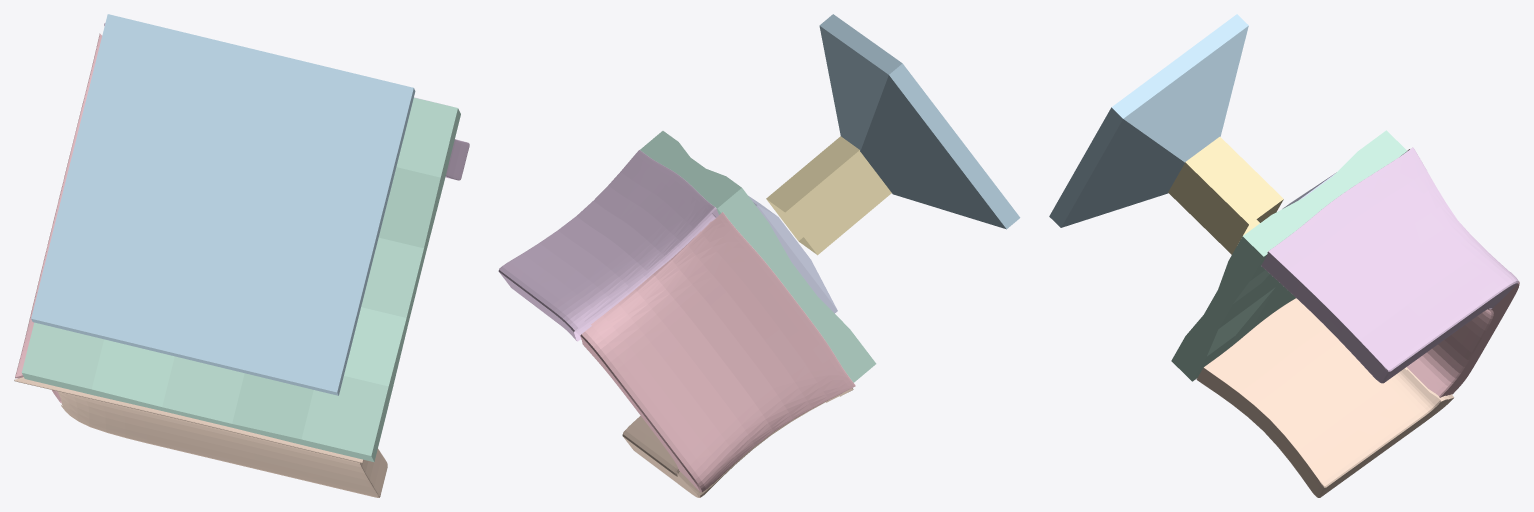
The model's file is view_assembly_9_colored.glb.
3 views of the same model, side by side, from view 1: azimuth 30°, elevation 25°; view 2: azimuth 150°, elevation 25°; view 3: azimuth 270°, elevation 25° (orthographic). The views are drawn at different scales.
Visible parts, largest first — view 1: world; view 2: world; view 3: world.
Boxes of the visible parts, <box> form: world: <box>14,14,469,497</box>; world: <box>498,14,1020,497</box>; world: <box>1049,14,1519,497</box>.
Bounding box in the file's own units: 0.9073 × 0.872 × 0.9741.
